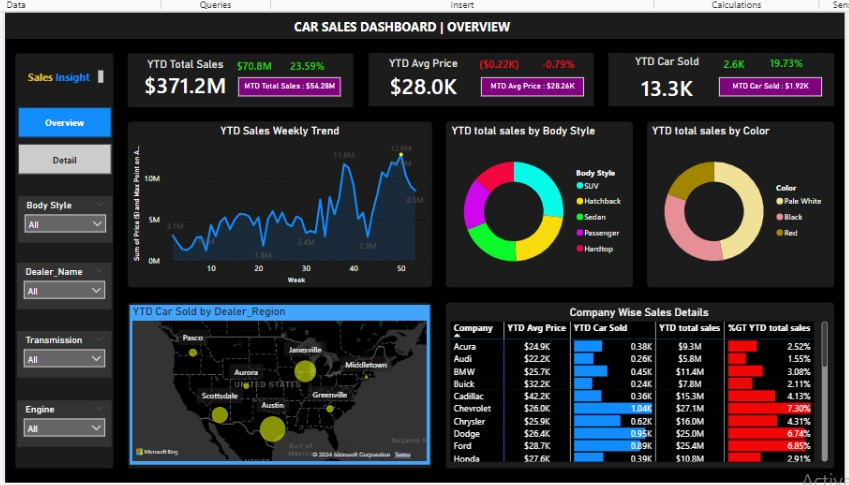

Layout of this report page (visuals, bound fields, positions):
{"tool":"powerbi","page":{"name":"Overview","canvas":[1280,720],"ordinal":0},"visuals":[{"type":"card","title":"YTD Total Sales","fields":{"Values":["car_data.YTD total sales"]},"box":[194.4,68.9,161.1,65.6],"z":0},{"type":"card","fields":{"Values":["car_data.Sales Difference"]},"box":[339.7,62.6,80.4,41.1],"z":1},{"type":"card","fields":{"Values":["car_data.YOYSales Growth"]},"box":[420.1,62.6,82.2,41.1],"z":2},{"type":"card","fields":{"Values":["car_data.MTD KPI"]},"box":[355.9,98.8,156.5,29.4],"z":3},{"type":"card","title":"YTD Avg Price","fields":{"Values":["car_data.YTD Avg Price"]},"box":[556.7,67.8,161.1,71.1],"z":4},{"type":"card","fields":{"Values":["car_data.Avg Price Diff"]},"box":[712.7,63.6,80,30.9],"z":5},{"type":"card","fields":{"Values":["car_data.YOY Avg Price"]},"box":[802.7,63.6,80,30.9],"z":6},{"type":"card","fields":{"Values":["car_data.MTD Avg Price KPI"]},"box":[725.5,99.1,157.3,29.1],"z":7},{"type":"card","title":"YTD Car Sold","fields":{"Values":["car_data.YTD Car Sold"]},"box":[928.2,63.6,160.9,80],"z":8},{"type":"card","fields":{"Values":["car_data.Car sold Diff"]},"box":[1070.9,63.6,80,30.9],"z":9},{"type":"card","fields":{"Values":["car_data.YOY Car sold Growth"]},"box":[1150.9,62.7,80,30.9],"z":10},{"type":"card","fields":{"Values":["car_data.MTD Car Sold KPI"]},"box":[1089.1,99.1,157.3,29.1],"z":11},{"type":"areaChart","title":"YTD Sales Weekly Trend","fields":{"Category":["calender Table.WEEK"],"Y":["Sum(car_data.Price ($))","car_data.Max Point on Area Chart"]},"box":[190,170,457.8,247.8],"z":12},{"type":"donutChart","fields":{"Y":["car_data.YTD total sales"],"Category":["car_data.Body Style"]},"box":[675.6,170,277.8,247.8],"z":13},{"type":"donutChart","fields":{"Y":["car_data.YTD total sales"],"Category":["car_data.Color"]},"box":[981.8,170,277.3,247.3],"z":14},{"type":"map","fields":{"Category":["car_data.Dealer_Region"],"Size":["car_data.YTD Car Sold"]},"box":[190,446.2,457.5,243.8],"z":15},{"type":"pivotTable","title":"Company Wise Sales Details","fields":{"Rows":["car_data.Company"],"Values":["car_data.YTD Avg Price","car_data.YTD Car Sold","car_data.YTD total sales","Divide(car_data.YTD total sales, ScopedEval(car_data.YTD total sales, []))"]},"box":[675,446.7,585,243.3],"z":16},{"type":"slicer","fields":{"Values":["car_data.Body Style"]},"box":[20,280,143.8,71.2],"z":17},{"type":"slicer","fields":{"Values":["car_data.Dealer_Name"]},"box":[18.8,381.2,143.8,71.2],"z":18},{"type":"slicer","fields":{"Values":["car_data.Transmission"]},"box":[18.8,486.2,143.8,71.2],"z":19},{"type":"slicer","fields":{"Values":["car_data.Engine"]},"box":[18.8,591.2,143.8,71.2],"z":20},{"type":"pageNavigator","box":[20,143.8,142.5,102.5],"z":22},{"type":"textbox","box":[30,83.3,125,30],"z":24},{"type":"textbox","box":[435,2.5,412.5,42.5],"z":25}]}

Visuals, with their boxes on the page's 1280x720 design canvas (x1, y1, x2, y2). These are canvas units, not pixel positions in the 849x485 screenshot, which may show the page scaled, cropped or inside an application window:
"YTD Total Sales" card: {"x1": 194, "y1": 69, "x2": 356, "y2": 134}
card - car_data.Sales Difference: {"x1": 340, "y1": 63, "x2": 420, "y2": 104}
card - car_data.YOYSales Growth: {"x1": 420, "y1": 63, "x2": 502, "y2": 104}
card - car_data.MTD KPI: {"x1": 356, "y1": 99, "x2": 512, "y2": 128}
"YTD Avg Price" card: {"x1": 557, "y1": 68, "x2": 718, "y2": 139}
card - car_data.Avg Price Diff: {"x1": 713, "y1": 64, "x2": 793, "y2": 94}
card - car_data.YOY Avg Price: {"x1": 803, "y1": 64, "x2": 883, "y2": 94}
card - car_data.MTD Avg Price KPI: {"x1": 726, "y1": 99, "x2": 883, "y2": 128}
"YTD Car Sold" card: {"x1": 928, "y1": 64, "x2": 1089, "y2": 144}
card - car_data.Car sold Diff: {"x1": 1071, "y1": 64, "x2": 1151, "y2": 94}
card - car_data.YOY Car sold Growth: {"x1": 1151, "y1": 63, "x2": 1231, "y2": 94}
card - car_data.MTD Car Sold KPI: {"x1": 1089, "y1": 99, "x2": 1246, "y2": 128}
"YTD Sales Weekly Trend" areaChart: {"x1": 190, "y1": 170, "x2": 648, "y2": 418}
donutChart - car_data.YTD total sales x car_data.Body Style: {"x1": 676, "y1": 170, "x2": 953, "y2": 418}
donutChart - car_data.YTD total sales x car_data.Color: {"x1": 982, "y1": 170, "x2": 1259, "y2": 417}
map - car_data.Dealer_Region x car_data.YTD Car Sold: {"x1": 190, "y1": 446, "x2": 648, "y2": 690}
"Company Wise Sales Details" pivotTable: {"x1": 675, "y1": 447, "x2": 1260, "y2": 690}
slicer - car_data.Body Style: {"x1": 20, "y1": 280, "x2": 164, "y2": 351}
slicer - car_data.Dealer_Name: {"x1": 19, "y1": 381, "x2": 163, "y2": 452}
slicer - car_data.Transmission: {"x1": 19, "y1": 486, "x2": 163, "y2": 557}
slicer - car_data.Engine: {"x1": 19, "y1": 591, "x2": 163, "y2": 662}
pageNavigator: {"x1": 20, "y1": 144, "x2": 162, "y2": 246}
textbox: {"x1": 30, "y1": 83, "x2": 155, "y2": 113}
textbox: {"x1": 435, "y1": 2, "x2": 848, "y2": 45}
